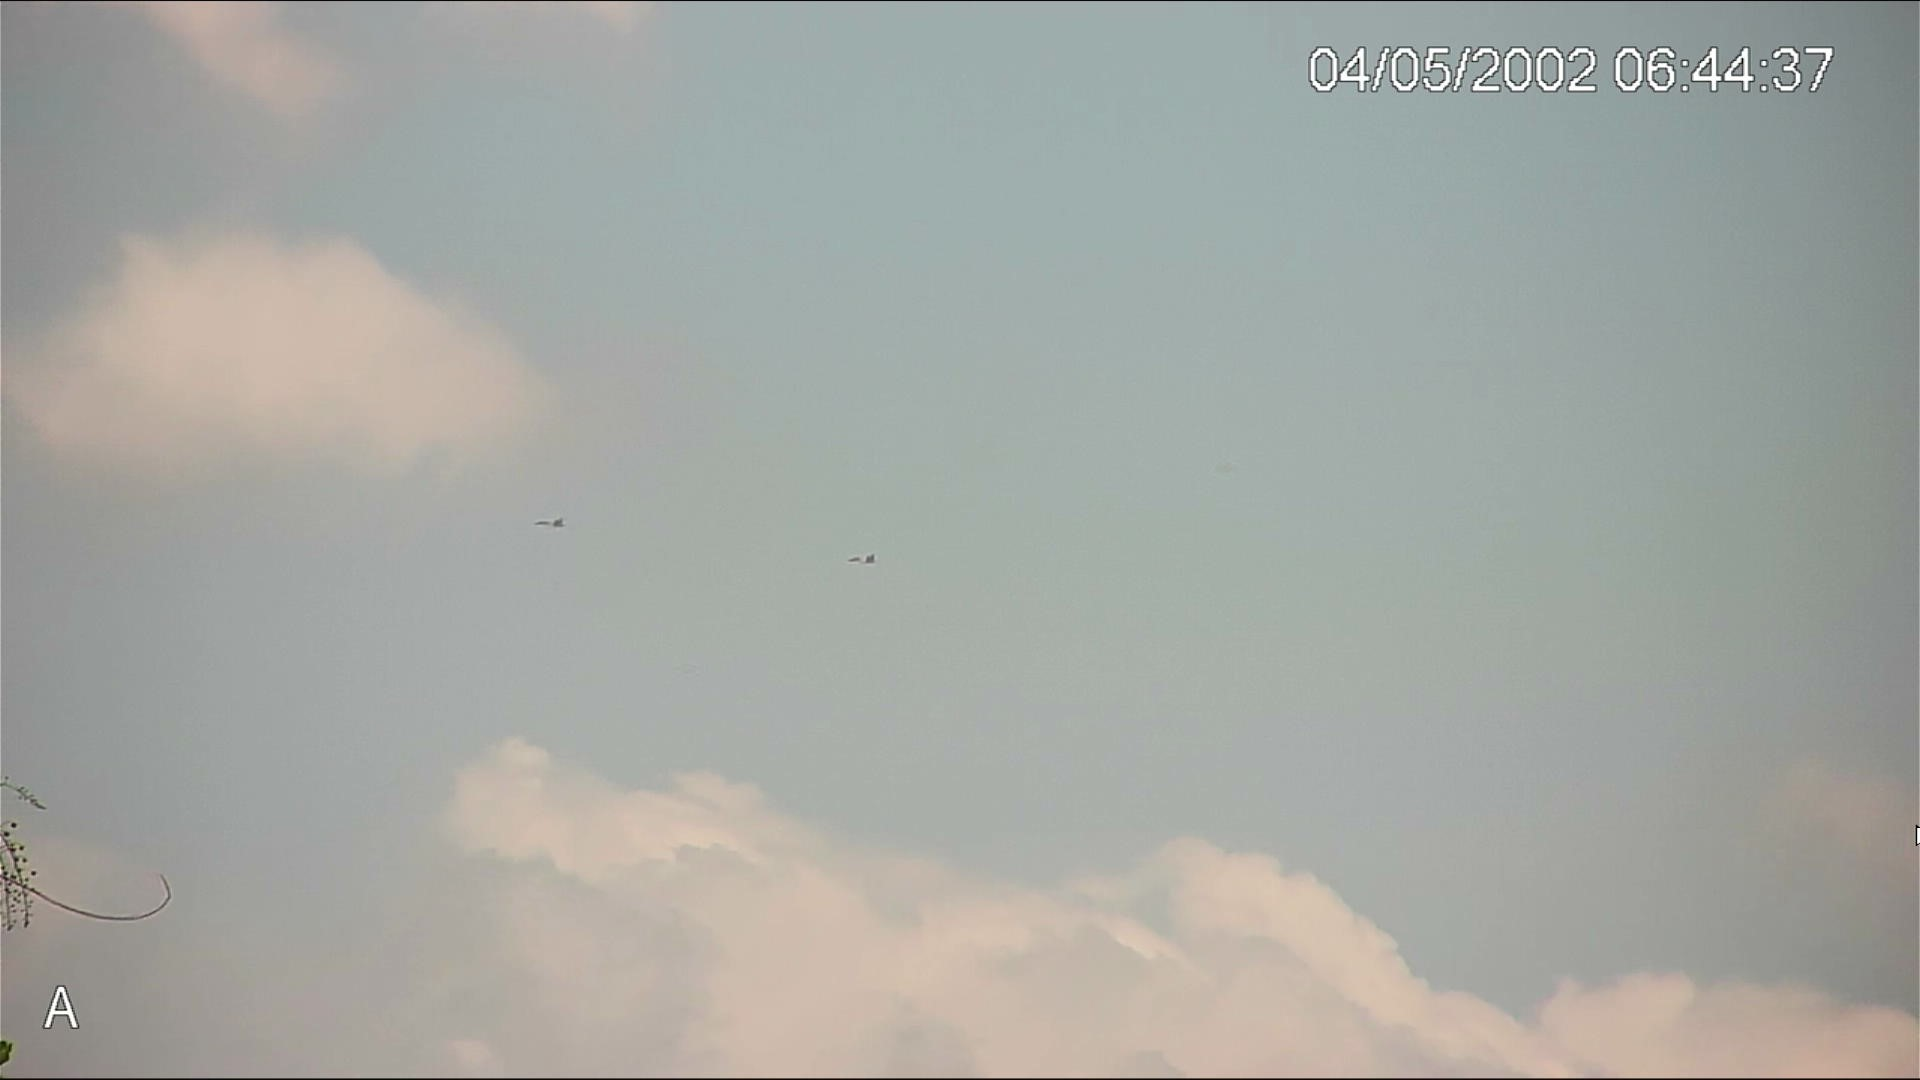SU_30: (531, 516, 564, 531), (849, 551, 876, 564)
